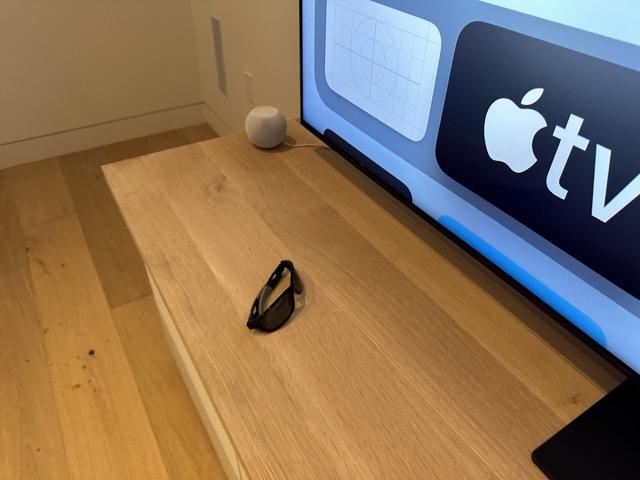Sunglasses: (248, 259, 304, 333)
